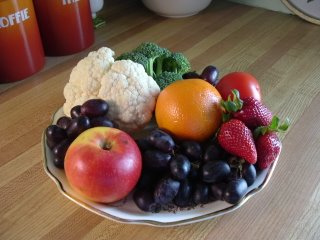cauliflower: (96, 59, 160, 126), (60, 45, 114, 116)
